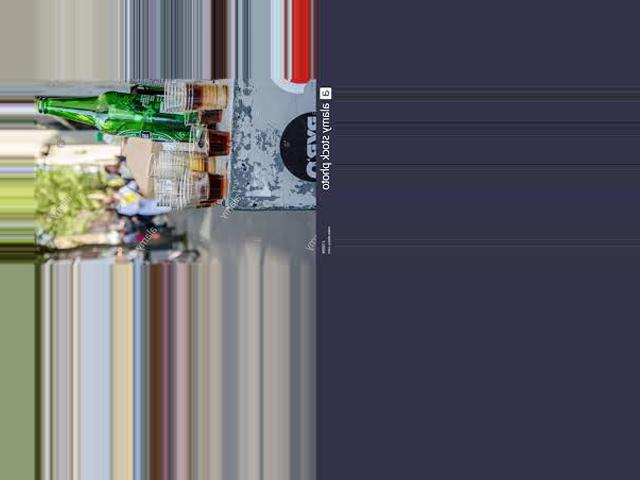beer: (38, 90, 211, 144)
